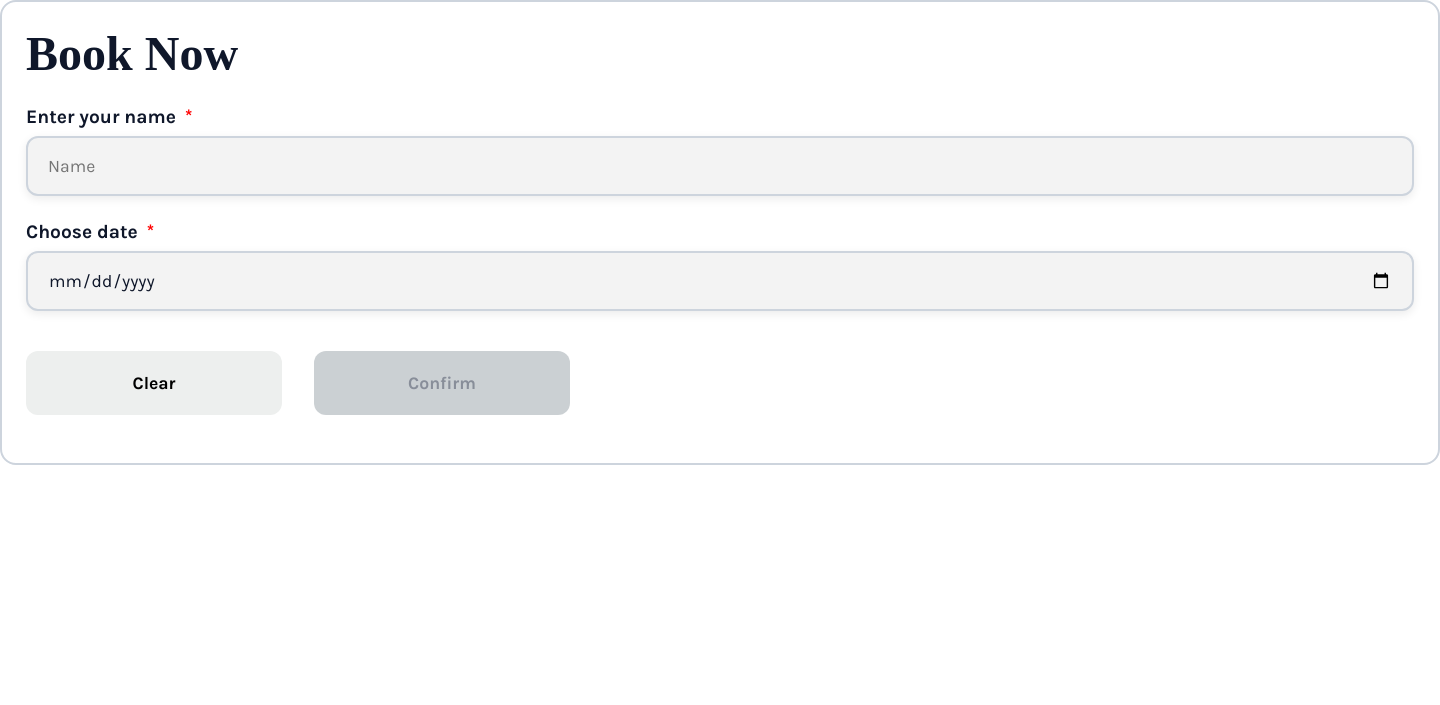
Test: shows error when guests exceed maximum
This screenshot has width=1440, height=705.
Step 1. Type "2099-06-10" into the date field labelled "Choose date *" → (720, 281), box [26,251,1414,311]
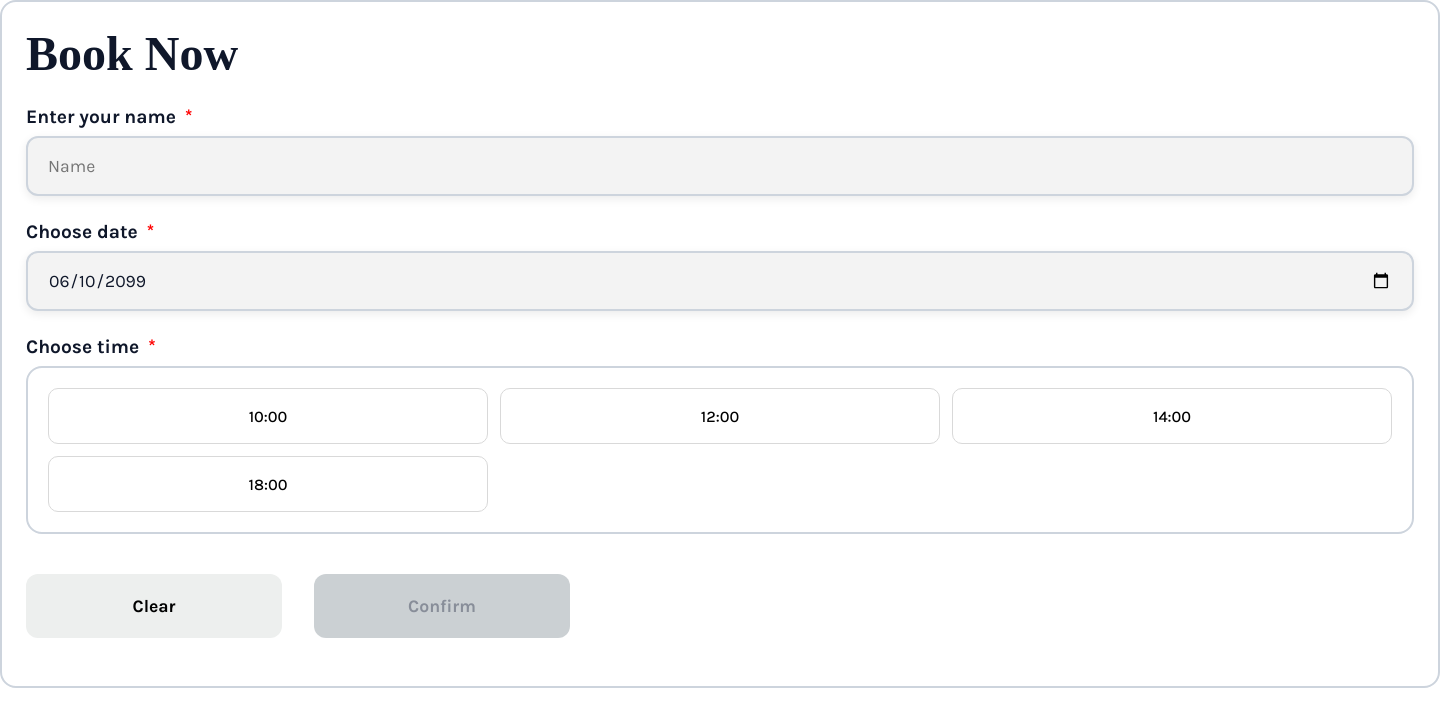
Step 2. Click the button "18:00" → (268, 484), box [48,456,488,512]
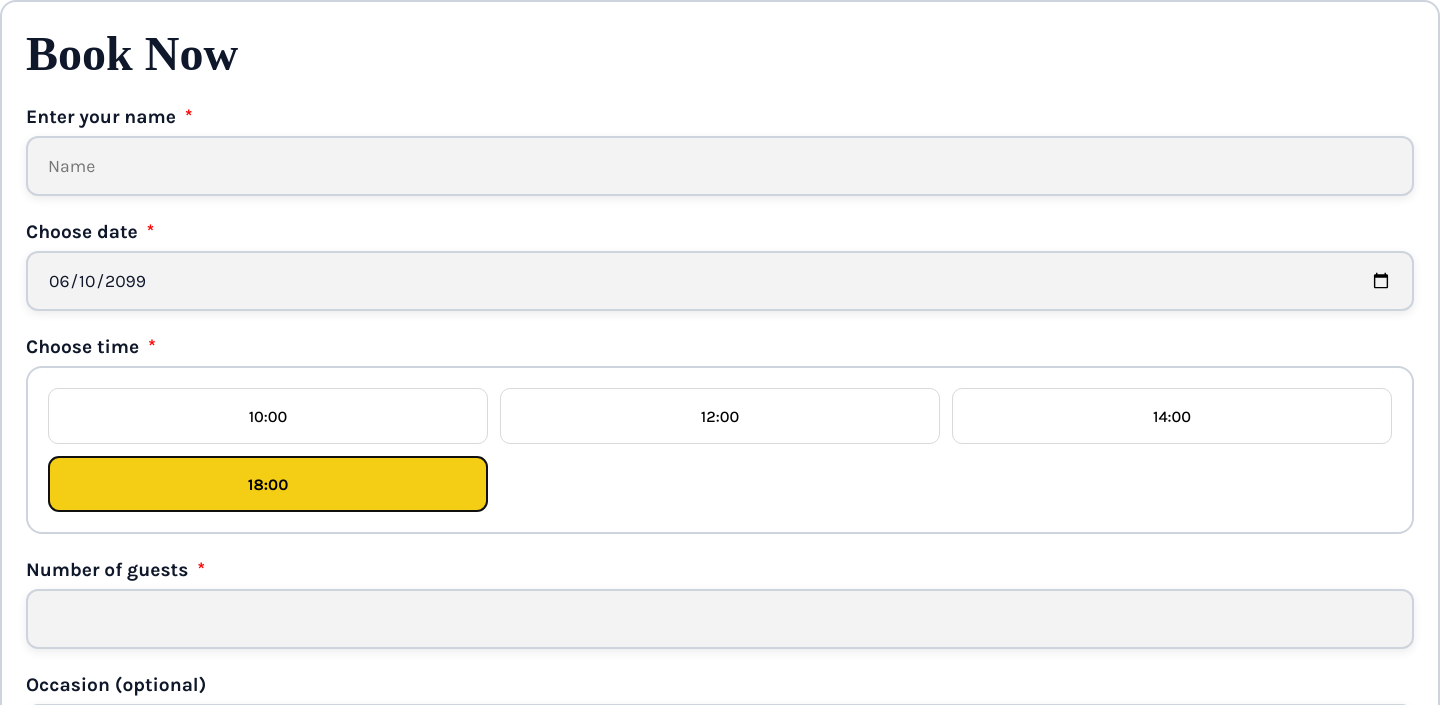
Step 3. Type "99" into the number field labelled "Number of guests *" → (720, 619), box [26,589,1414,649]
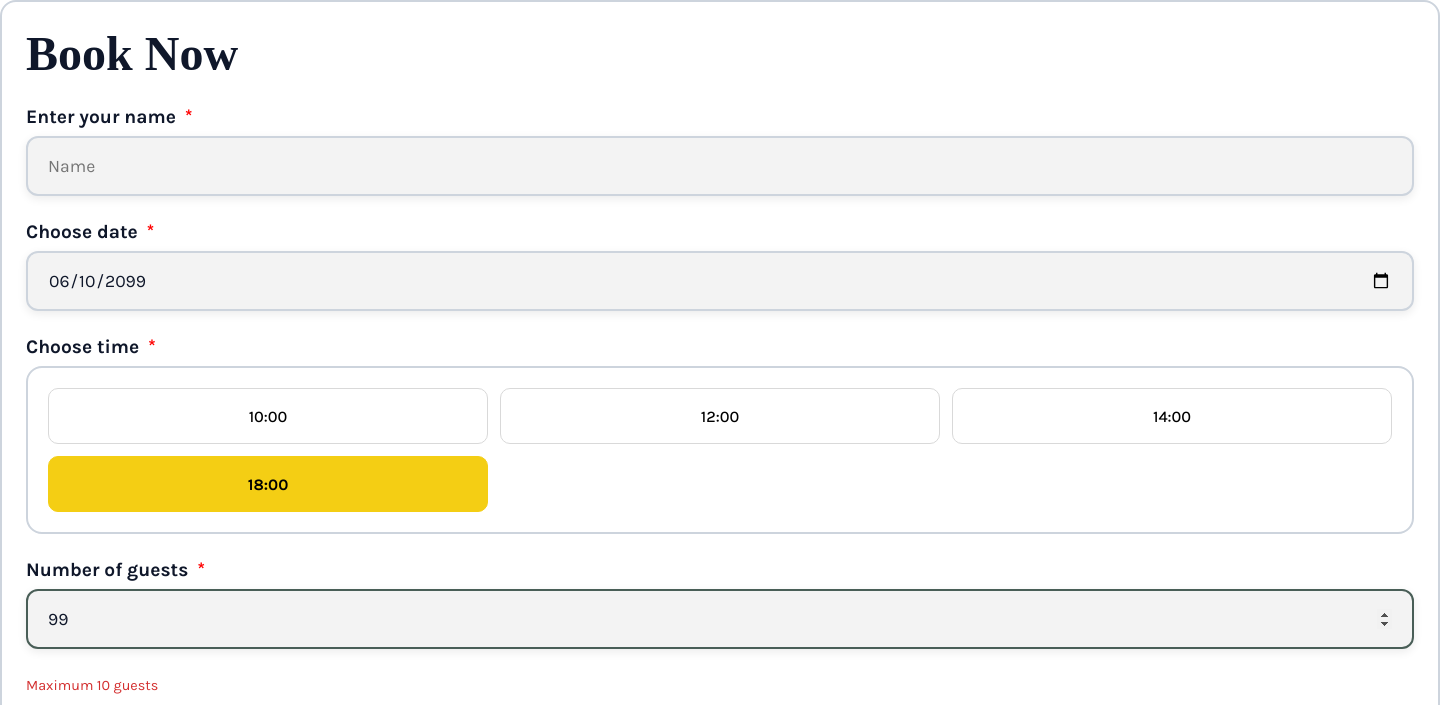
Check: the text "Maximum 10 guests" is shown, box [26,677,158,694]
